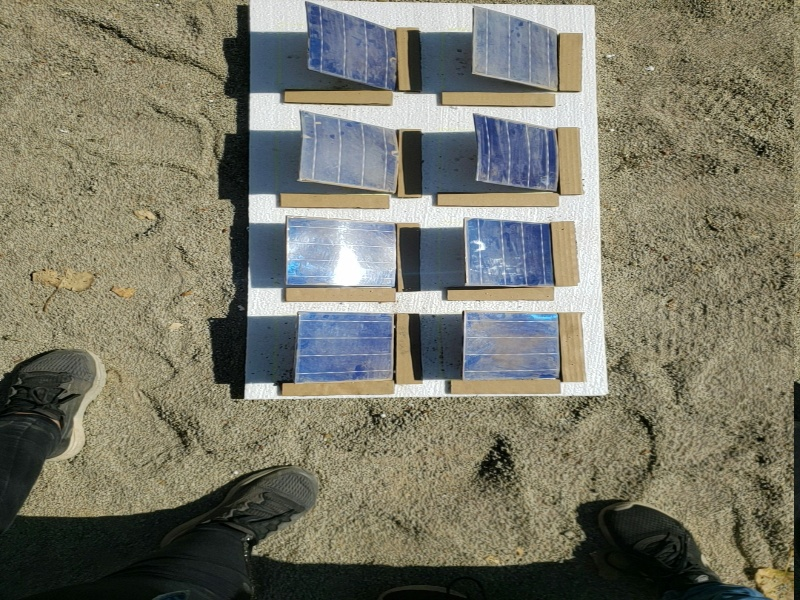clean: (465, 219, 552, 286)
dirty: (299, 110, 396, 194), (304, 1, 392, 90), (473, 9, 559, 94), (463, 314, 566, 381)
